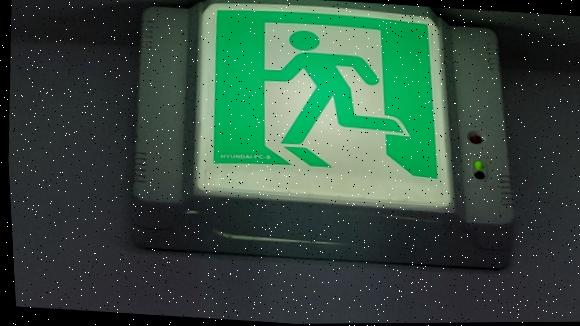emergency_exit: (128, 2, 515, 269), (193, 3, 455, 213)
